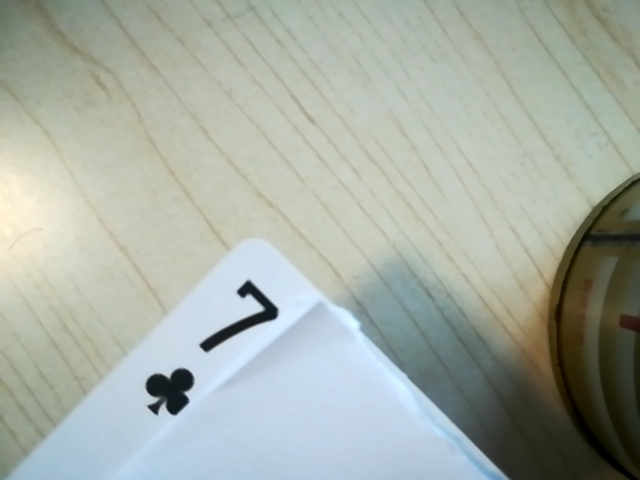mh 7: (136, 272, 295, 418)
